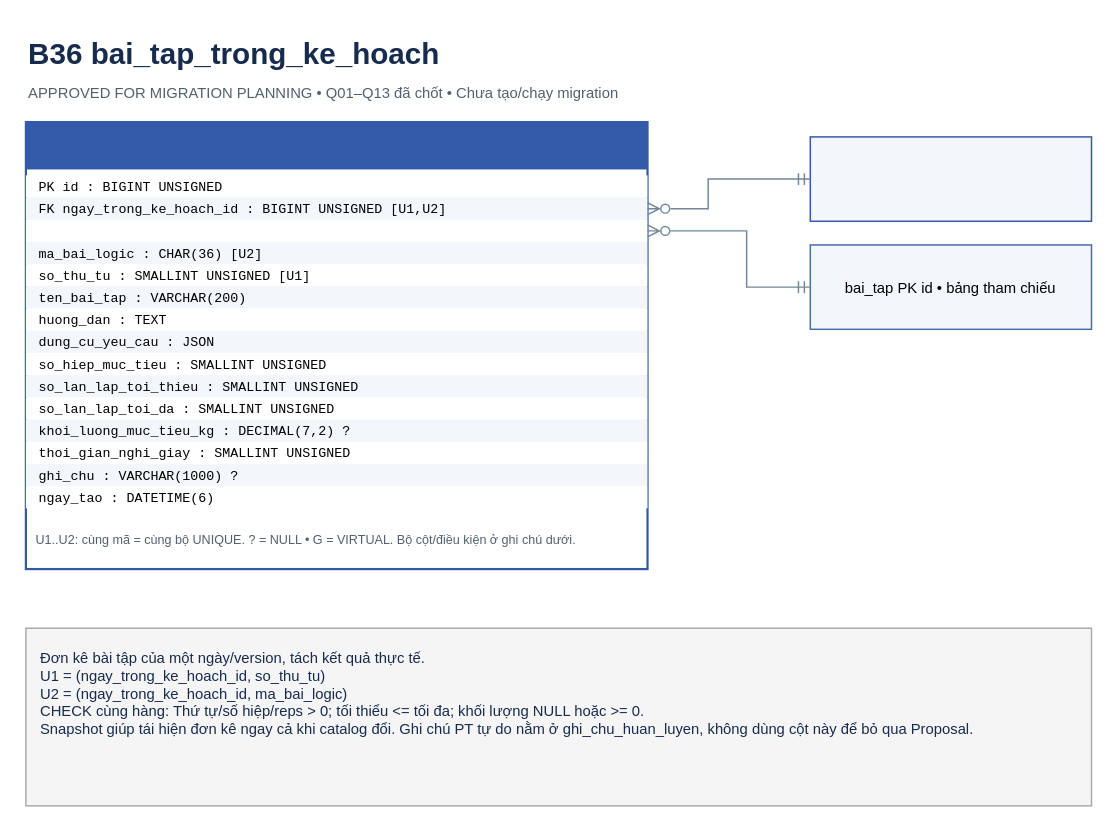
This 1119x832 diagram has some shape labels left out. Here are the shapes that lost their labels. From the top down, the centre of each, then its label:
At point 336,145: "bai_tap_trong_ke_hoach".
At point 950,178: "ngay_trong_ke_hoach PK id • bảng tham chiếu".
At point 336,230: "FK bai_tap_id : BIGINT UNSIGNED".
